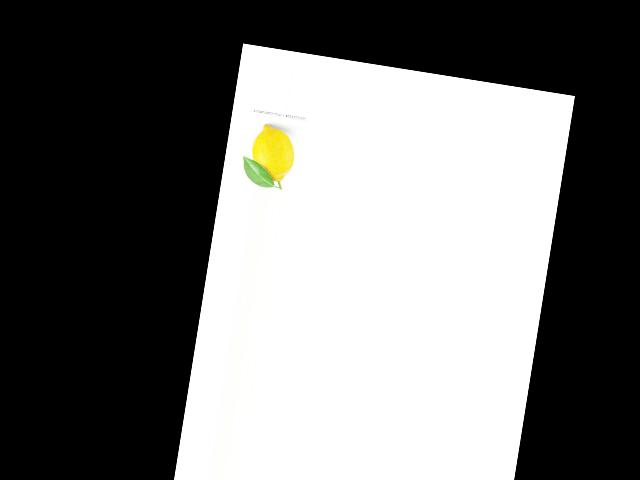lemon: (241, 121, 300, 186)
